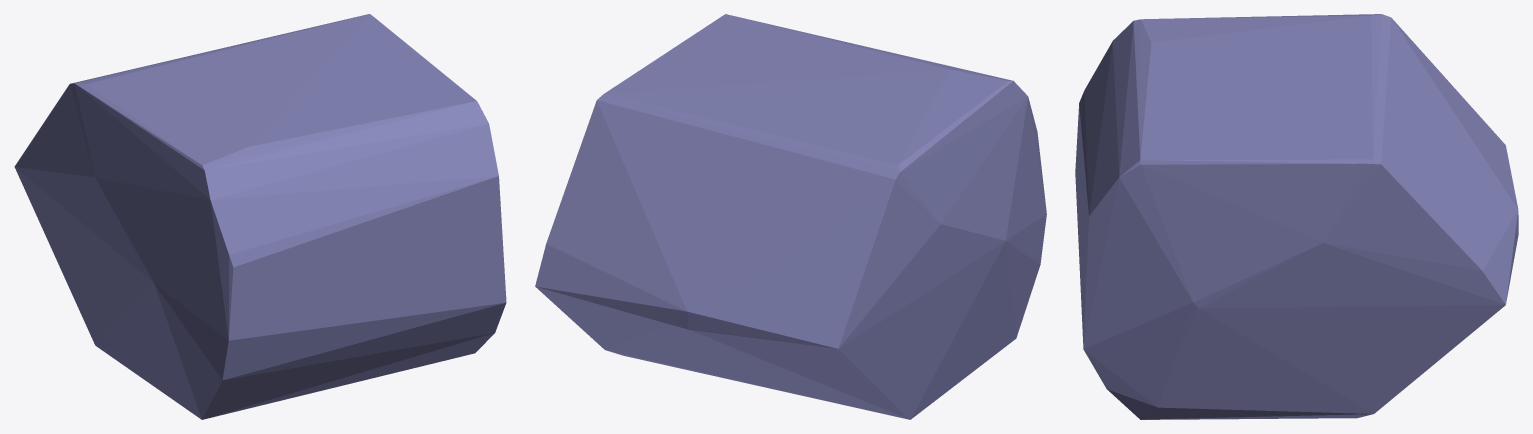
File: container_plastic_grit_black_b01.glb
3 views of the same model, side by side, from view 1: azimuth 30°, elevation 25°; view 2: azimuth 150°, elevation 25°; view 3: azimuth 270°, elevation 25° (orthographic). The views are drawn at different scales.
Visible parts, largest first — view 1: geometry_0; view 2: geometry_0; view 3: geometry_0.
Boxes of the visible parts, x1=… form: geometry_0: x1=14, y1=14, x2=506, y2=419; geometry_0: x1=535, y1=14, x2=1046, y2=419; geometry_0: x1=1075, y1=14, x2=1518, y2=419.
Size of the model in its own units: 0.4069 by 0.3163 by 0.4767.
